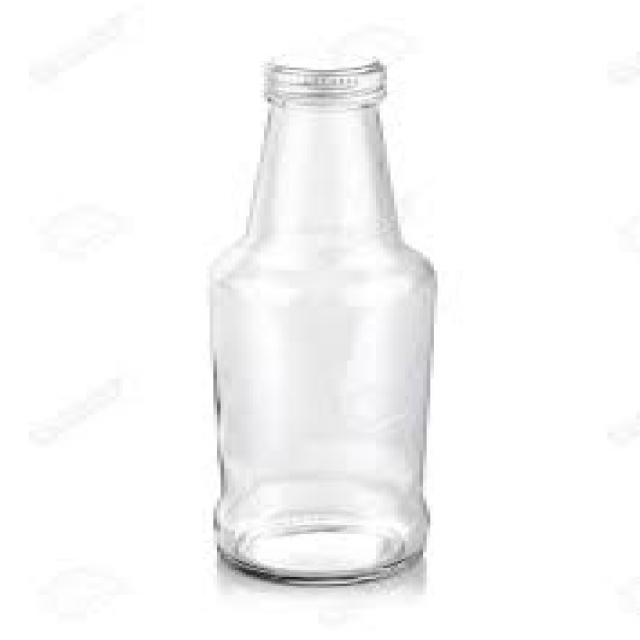Glass-Non-Biodegradable but Recyclable-: (202, 56, 442, 589)
